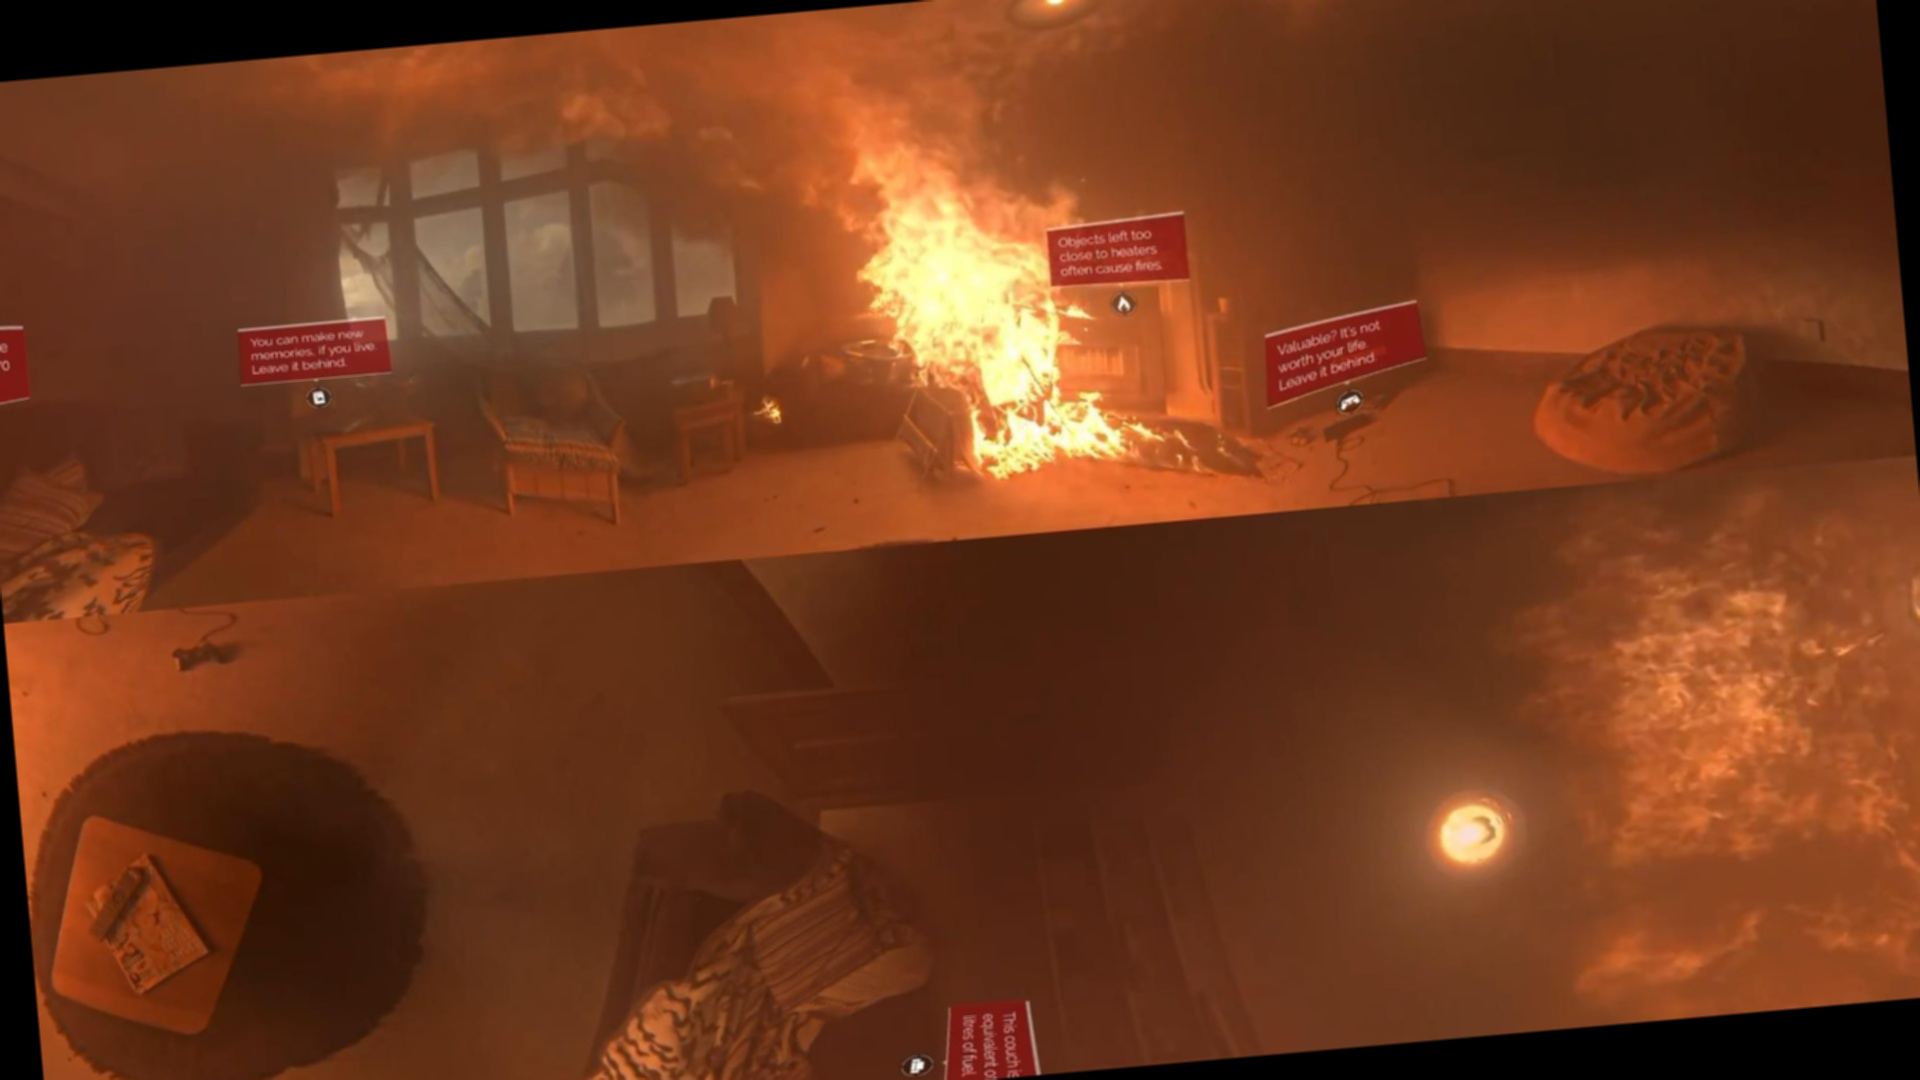fire: (794, 55, 1054, 401)
